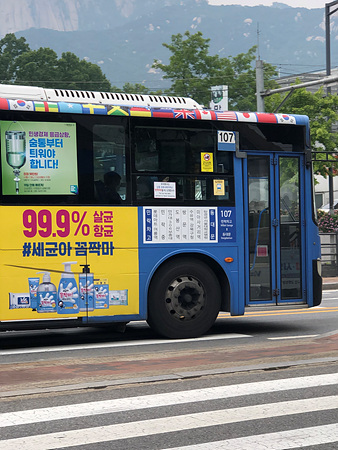entrance: (239, 141, 310, 312)
